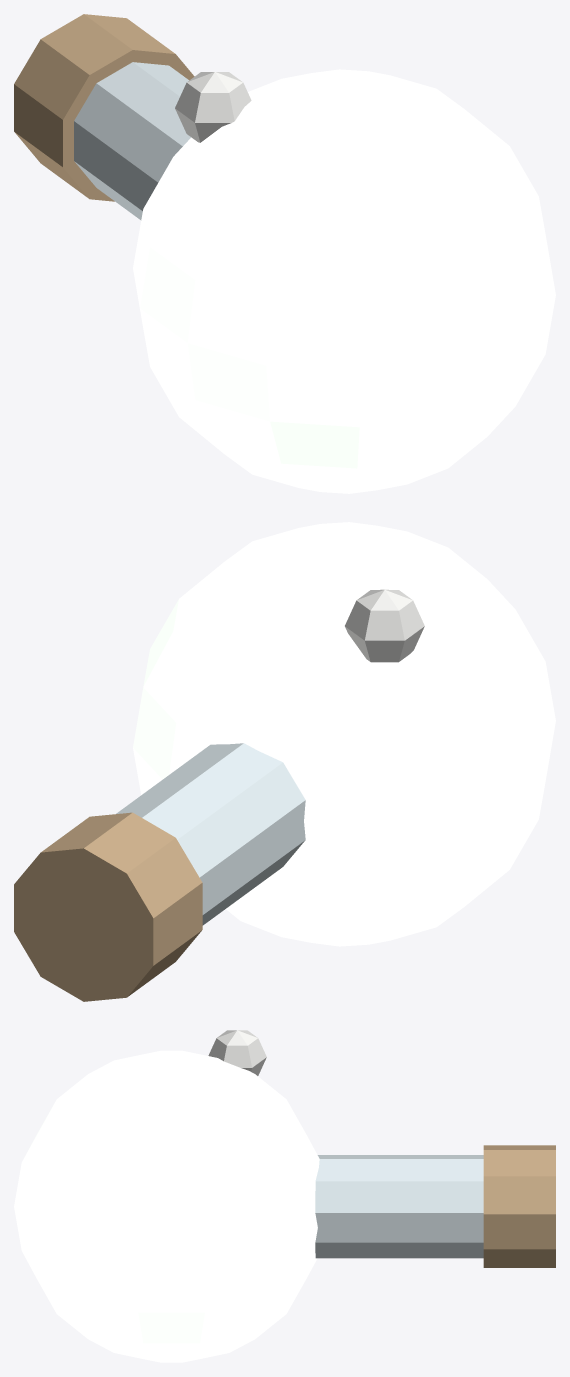
The model's file is glow_honey_held.gltf.
3 renders of one model, top to bottom at view 1: azimuth 30°, elevation 25°; view 2: azimuth 150°, elevation 25°; view 3: azimuth 270°, elevation 25°, orthographic. The views are drawn at different scales.
Visible parts, largest first — view 1: bees_glow_honey_held; view 2: bees_glow_honey_held; view 3: bees_glow_honey_held.
Part boxes in pixels (box(x1,y1,x2,y2)): bees_glow_honey_held: box(14, 14, 555, 493); bees_glow_honey_held: box(14, 522, 555, 1001); bees_glow_honey_held: box(14, 1030, 555, 1362).
Bounding box in the file's own units: 0.0936 × 0.097 × 0.165.
